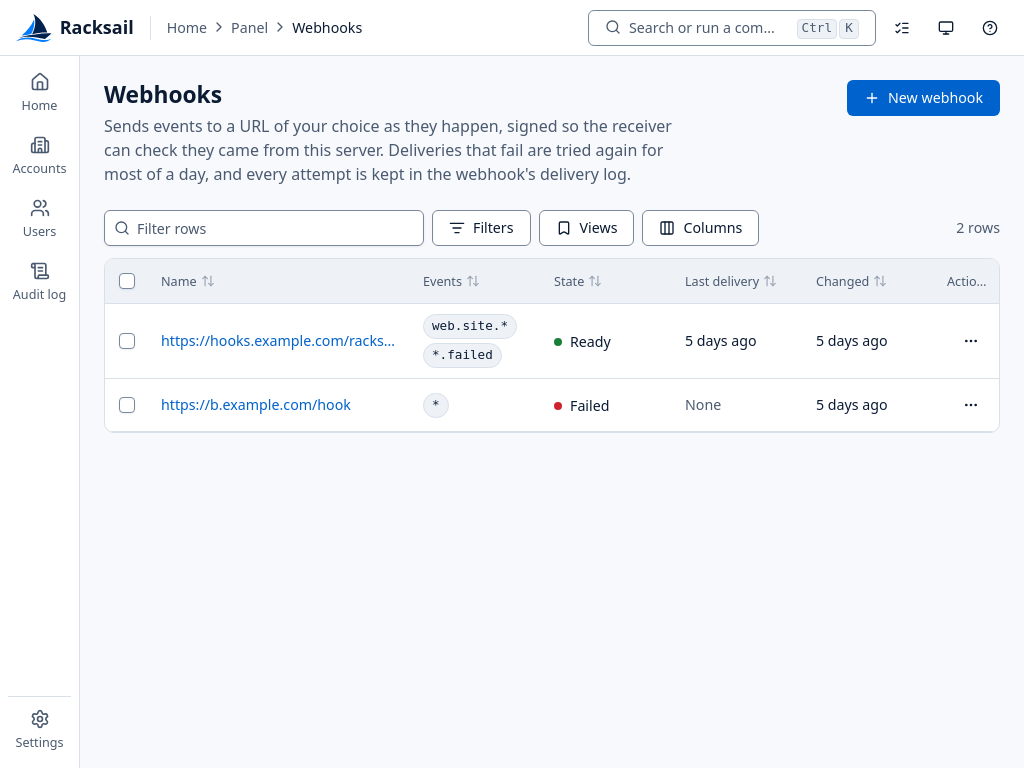
a kind's list › runs an action that takes input on several rows, keeping what was typed when refused
Expected: the link "https://b.example.com/hook" is shown, [161,395,351,414]
Click the checkbox named "Select https://hooks.example.com/racksail" at (127, 341), box [119,333,135,349]
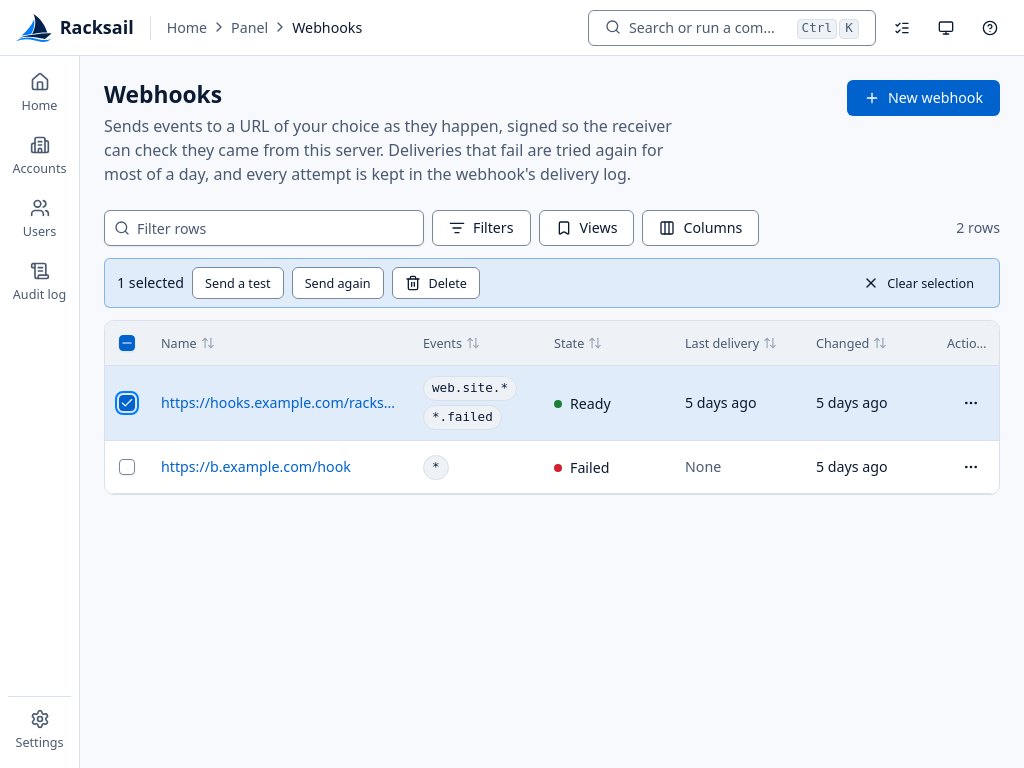
Click the checkbox named "Select https://b.example.com/hook" at (127, 467), box [119,459,135,475]
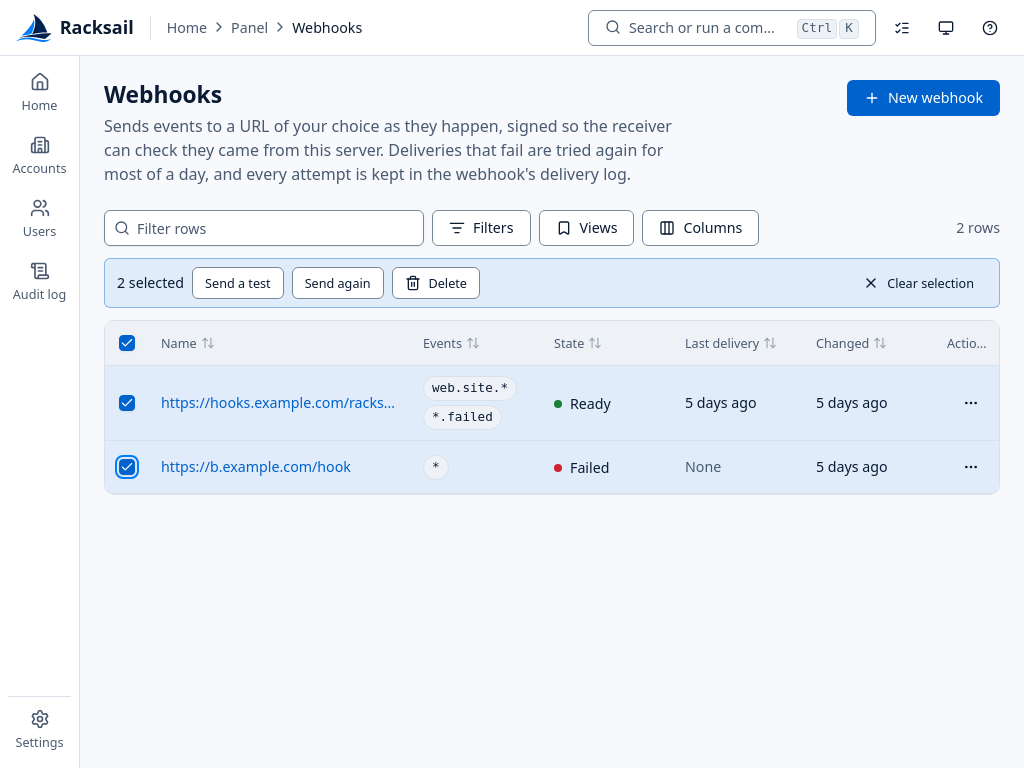
Click the button "Send again" at (338, 283), box [292,267,384,299]
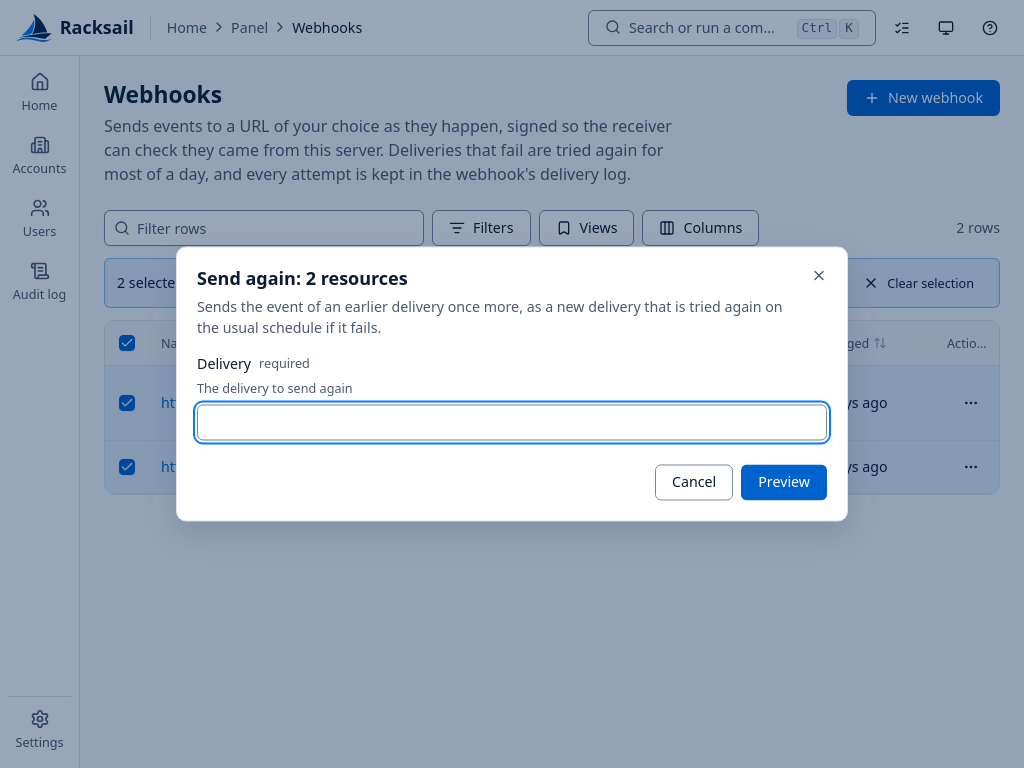
Type "dlv_7" into the field labelled "Delivery required" at (512, 422), box [197,404,827,440]
Click the button "Preview" at (784, 482), box [741,464,827,500]
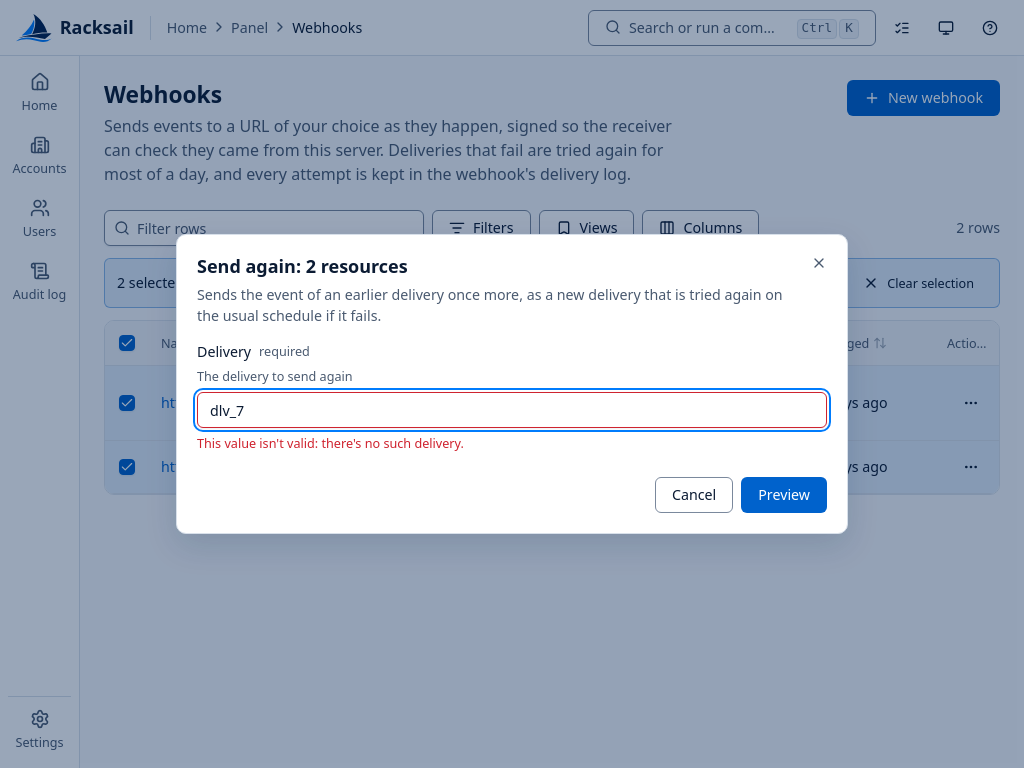
Now the field labelled "Delivery required" holds "dlv_7", box [197,392,827,428]
Click the button "Preview" at (784, 495), box [741,477,827,513]
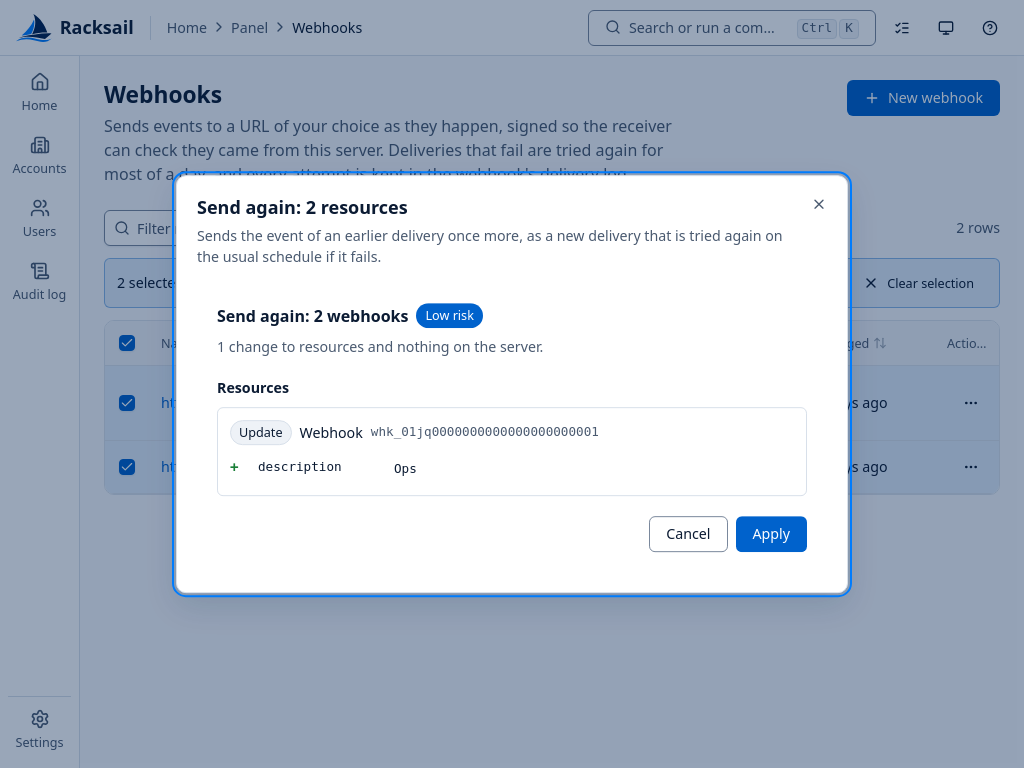
Click the button "Apply" at (771, 534), box [736,516,807,552]
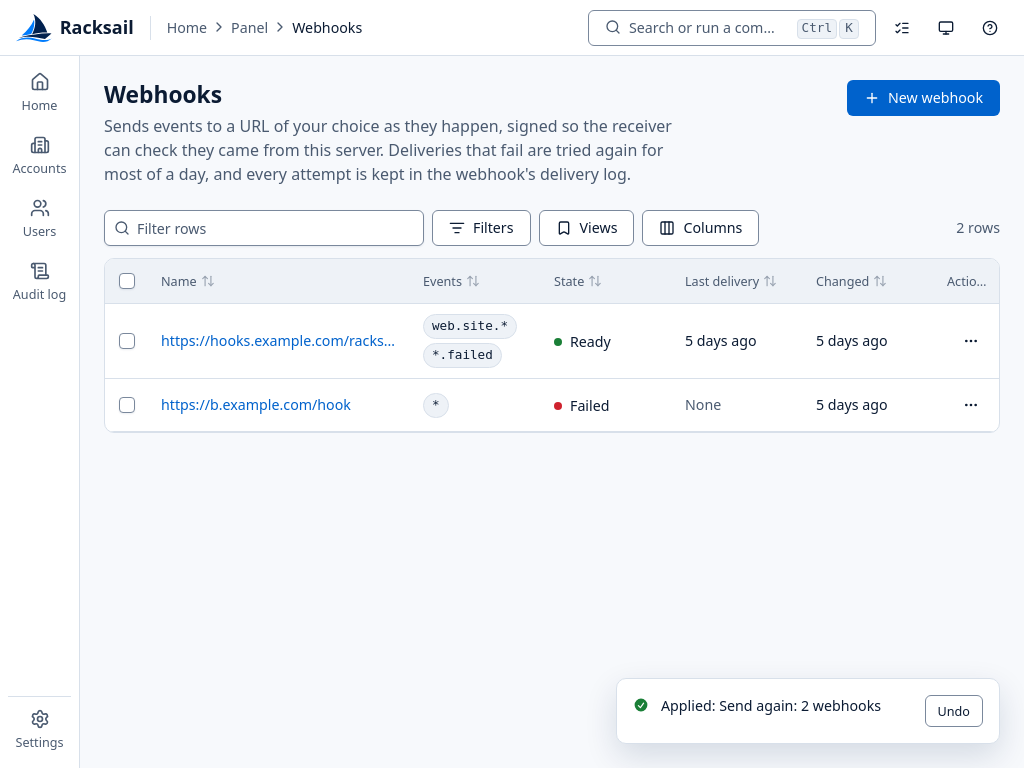
Now the dialog is gone
